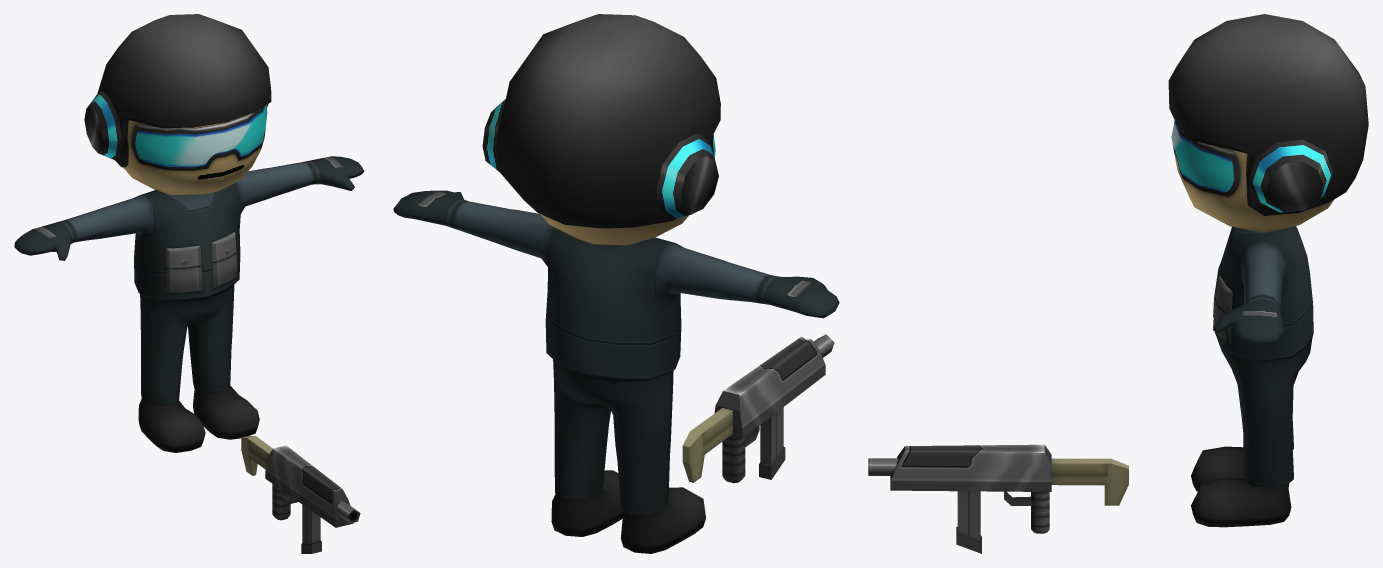
The model's file is char_security_cm.fbx.
3 views of the same model, side by side, from view 1: azimuth 30°, elevation 25°; view 2: azimuth 150°, elevation 25°; view 3: azimuth 270°, elevation 25° (orthographic). The views are drawn at different scales.
Visible parts, largest first — view 1: char_security; view 2: char_security; view 3: char_security.
Boxes of the visible parts, bbox=[...] form: char_security: bbox=[14, 14, 364, 553]; char_security: bbox=[393, 14, 839, 553]; char_security: bbox=[868, 14, 1368, 553].
Bounding box in the file's own units: 0.7719 × 0.9525 × 0.8216.
